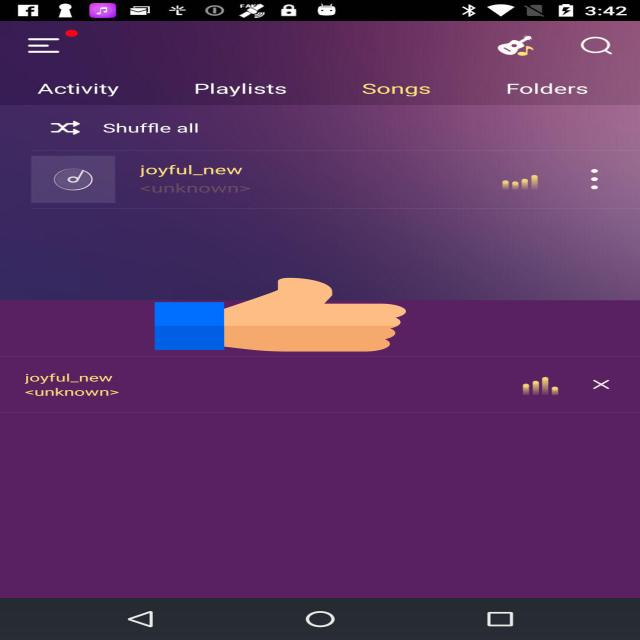privacy zuckering: (155, 276, 406, 353)
